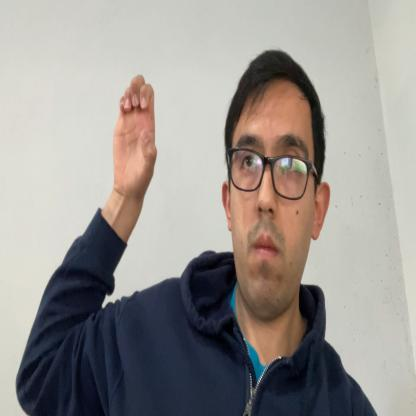E: (112, 74, 158, 200)
